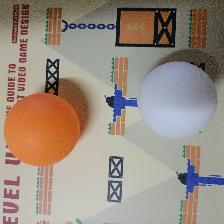WhiteBall: (137, 61, 216, 138)
YellowBall: (4, 92, 80, 166)
